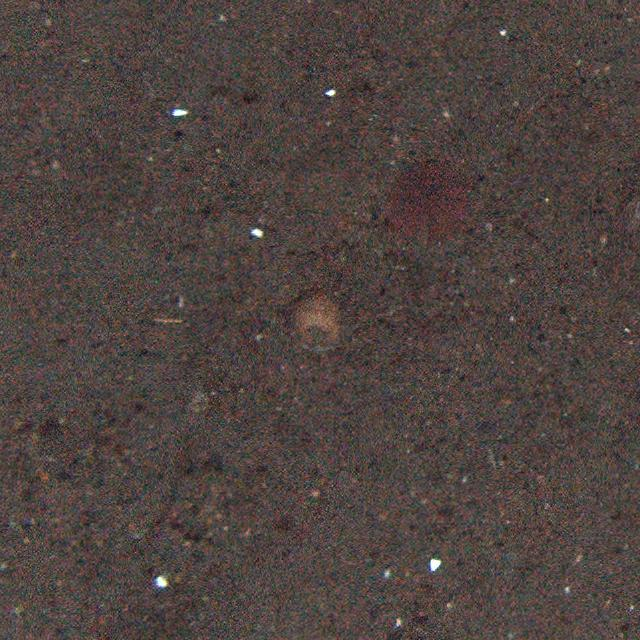scallop: (285, 286, 349, 352)
